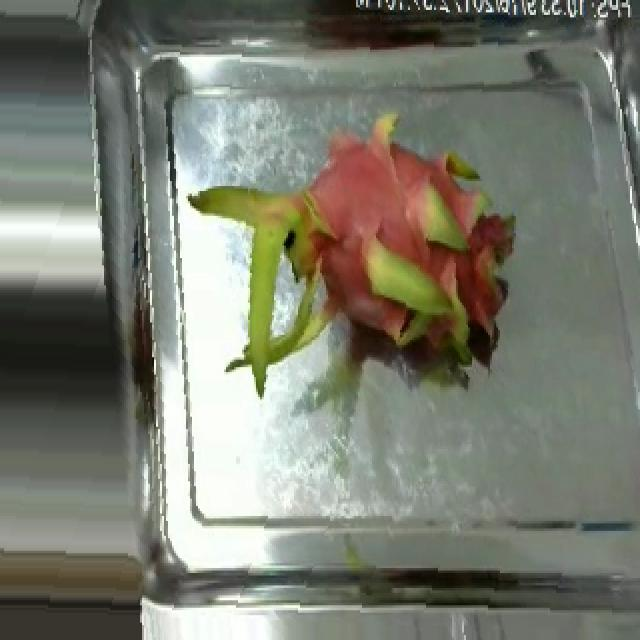Fruit: (0, 580, 150, 640)
